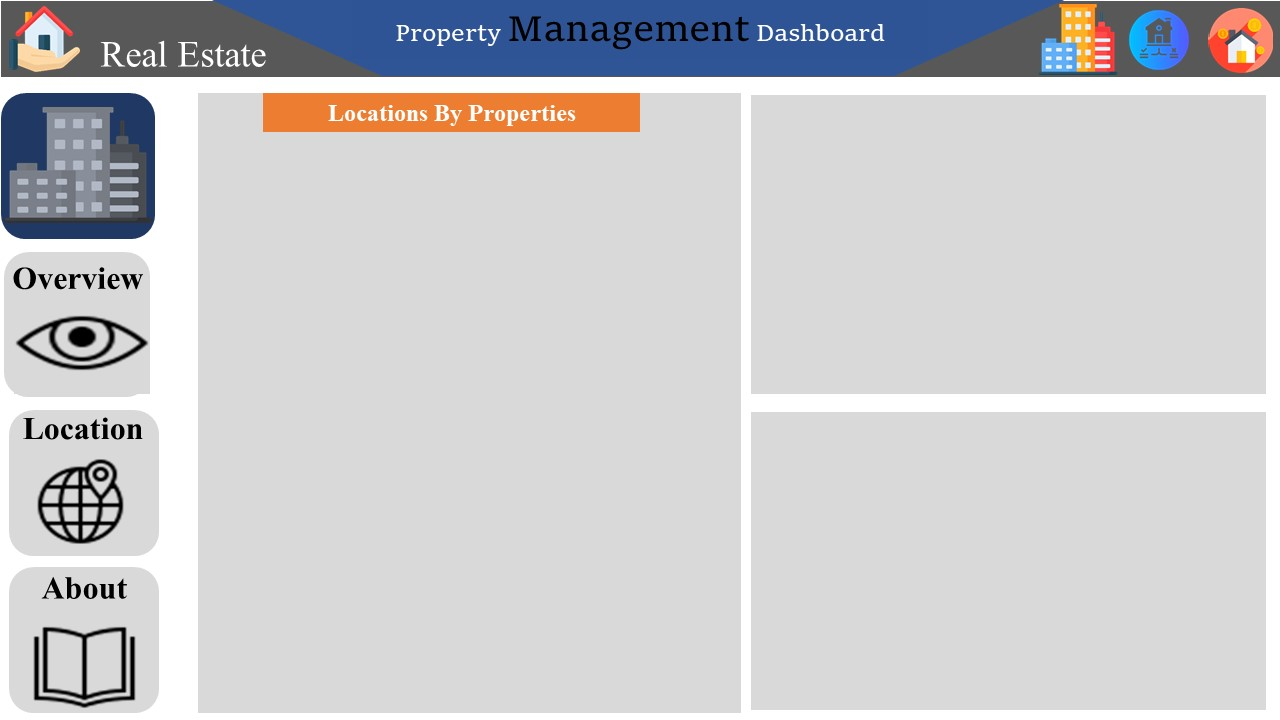

The page's visual inventory and layout, read from the dashboard file:
{"tool":"powerbi","page":{"name":"Locations","canvas":[1280,720],"ordinal":1},"visuals":[{"type":"map","fields":{"Size":["Measures (2).Total Properties"],"Category":["Dim_ Location.Property location"]},"box":[198.4,146.8,542,562.3],"z":0},{"type":"pivotTable","fields":{"Rows":["Dim_Floor Status.Floor Status"],"Columns":["Dim_Condtion Id.Condition Status"],"Values":["Measures (2).Total Properties"]},"box":[752.8,95.3,510.7,303],"z":1000},{"type":"pivotTable","fields":{"Columns":["Dim_Condtion Id.Condition Status"],"Values":["Measures (2).Total Properties"],"Rows":["Dim_Bedrooms.Bedrooms Status"]},"box":[752.8,417,527.9,303],"z":2000},{"type":"shape","box":[145.2,245.2,59.3,149.9],"z":3000}]}

Visuals, with their boxes in screenshot pixels (x1, y1, x2, y2), scaled from the page's 1280x720 canvas onto the 1280x720 screenshot:
map - Measures (2).Total Properties x Dim_ Location.Property location: rect(198, 147, 740, 709)
pivotTable - Dim_Floor Status.Floor Status x Dim_Condtion Id.Condition Status: rect(753, 95, 1264, 398)
pivotTable - Dim_Condtion Id.Condition Status x Measures (2).Total Properties: rect(753, 417, 1279, 719)
shape: rect(145, 245, 204, 395)
